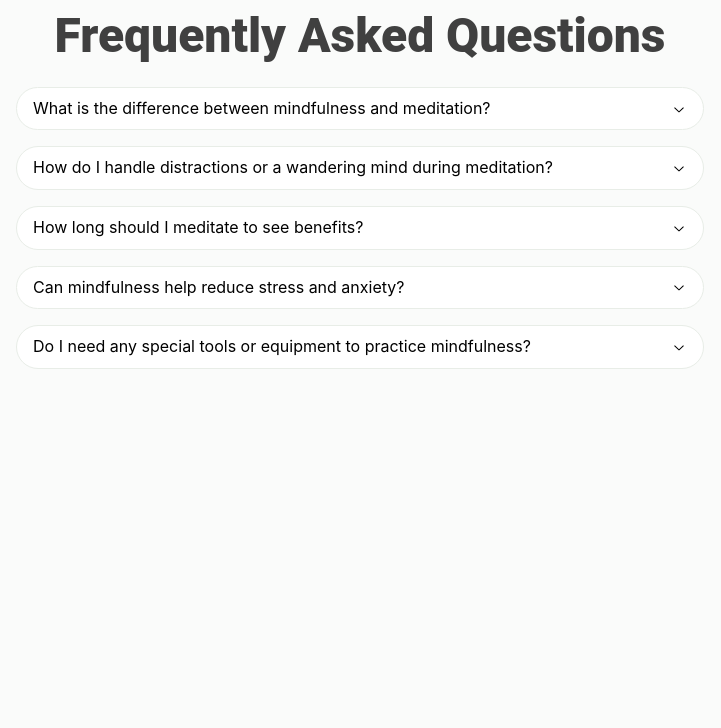
Scenario: LandingFAQ › Nested Content › renders tools content correctly
The width and height of the screenshot is (721, 728).
What coordinates should you click on to do the following:
click the button "Do I need any special tools or equipment to practice mindfulness?"
I would click on:
 (360, 347)
Its box is [17,326,703,368].
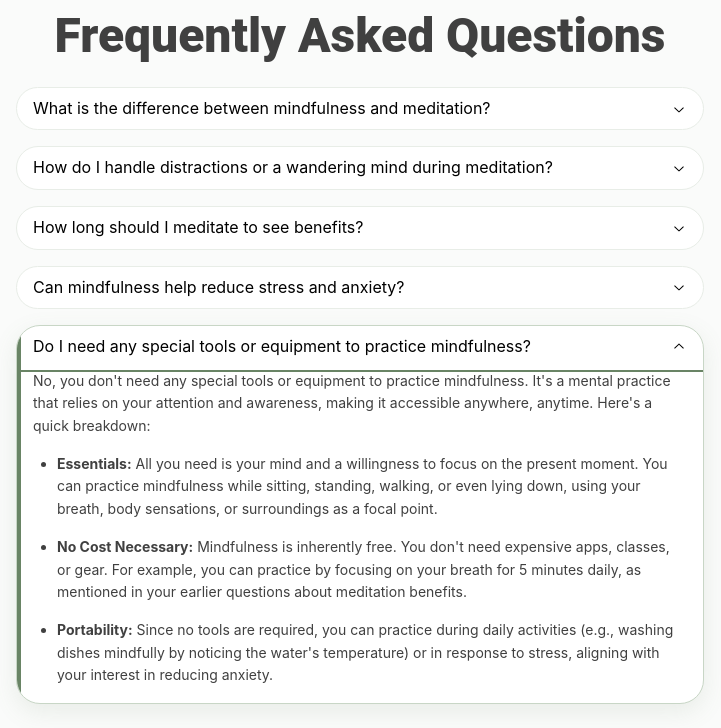
Check: the text "Essentials:" is shown, box [57,455,132,472]
